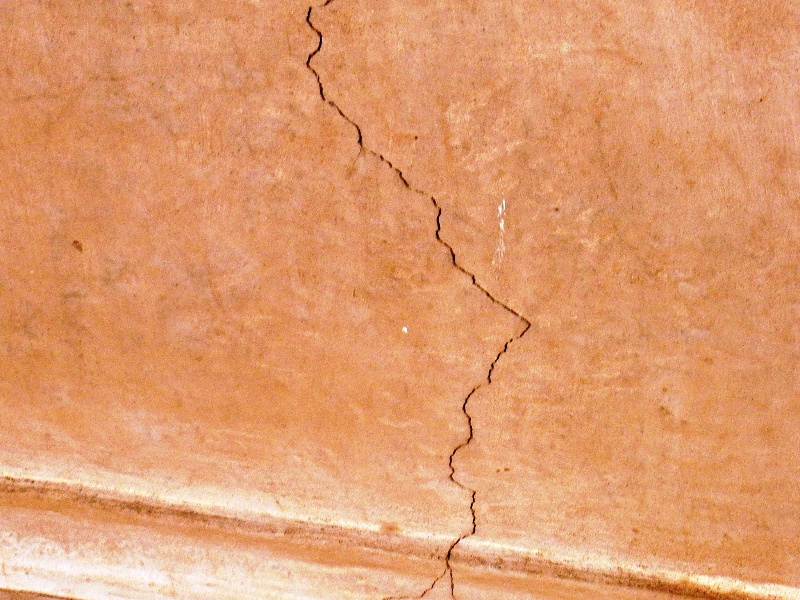Crack: (299, 1, 534, 600)
